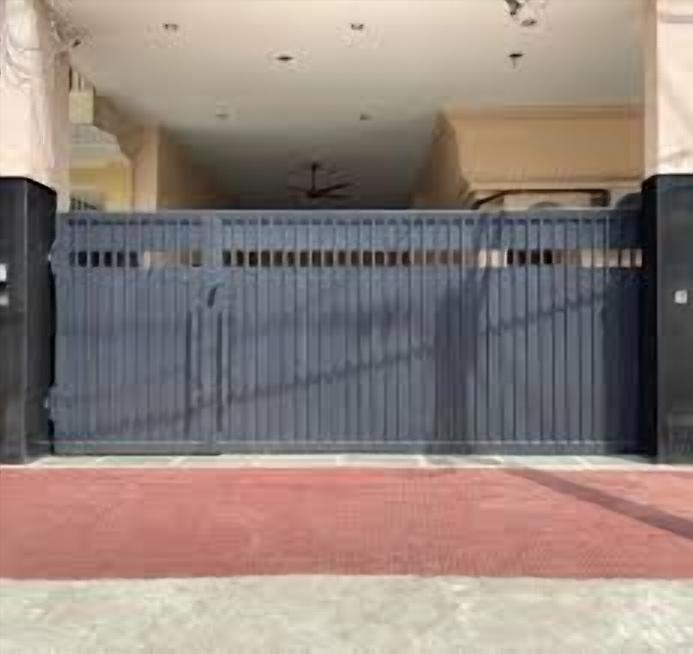Gate: (45, 203, 653, 458)
